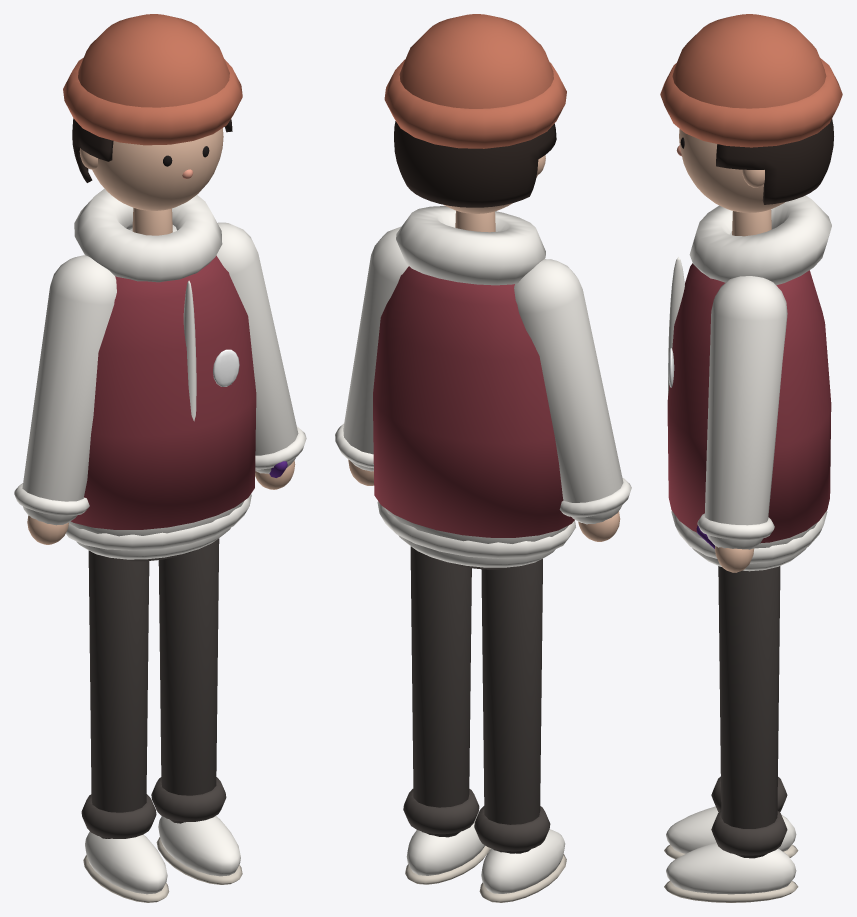
Rendered from Funcionario_Hombre.fbx.
3 views of the same model, side by side, from view 1: azimuth 30°, elevation 25°; view 2: azimuth 150°, elevation 25°; view 3: azimuth 270°, elevation 25° (orthographic).
Parts seen in each view (by area): view 1: Funcionario_Hombre; view 2: Funcionario_Hombre; view 3: Funcionario_Hombre.
Boxes of the visible parts, x1,y1,x2,y2 form: Funcionario_Hombre: (14,14,306,902); Funcionario_Hombre: (335,14,631,902); Funcionario_Hombre: (660,14,842,902).
Bounding box in the file's own units: 0.63 × 1.81 × 0.35.
